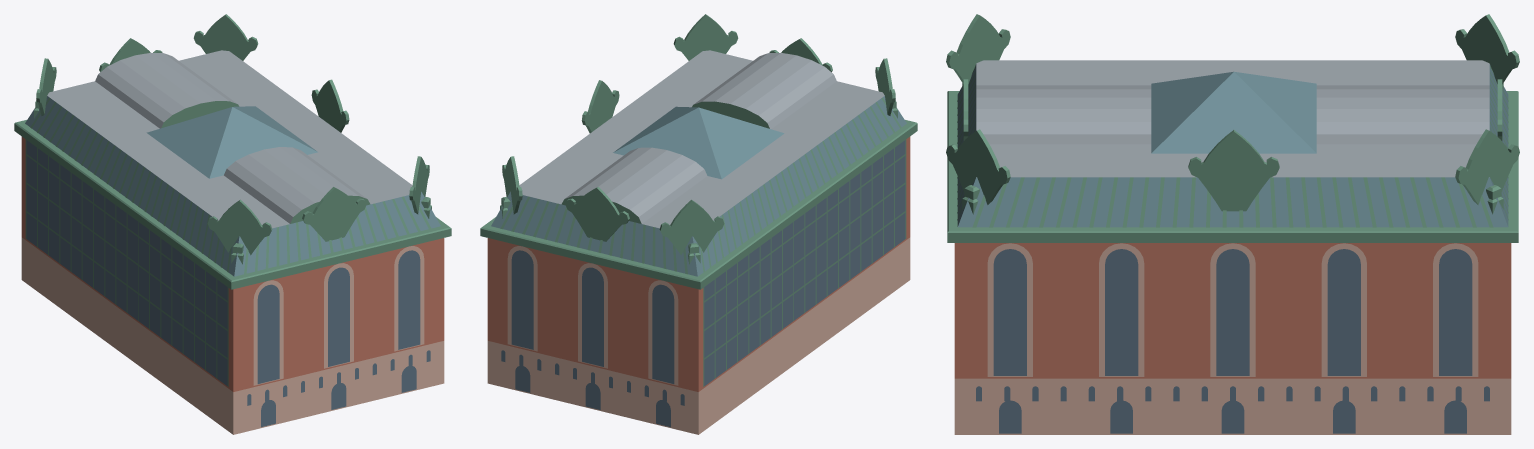
The model's file is chi-harold-washington-library.glb.
3 renders of one model, left to right at view 1: azimuth 30°, elevation 25°; view 2: azimuth 150°, elevation 25°; view 3: azimuth 270°, elevation 25°, orthographic. The views are drawn at different scales.
Parts seen in each view (by area): view 1: Harold Washington Library Center; view 2: Harold Washington Library Center; view 3: Harold Washington Library Center.
Part boxes in pixels (<box>): Harold Washington Library Center: <box>14,14,451,434</box>; Harold Washington Library Center: <box>480,14,917,434</box>; Harold Washington Library Center: <box>946,14,1519,434</box>.
Size of the model in its own units: 65.22 by 63.87 by 111.
